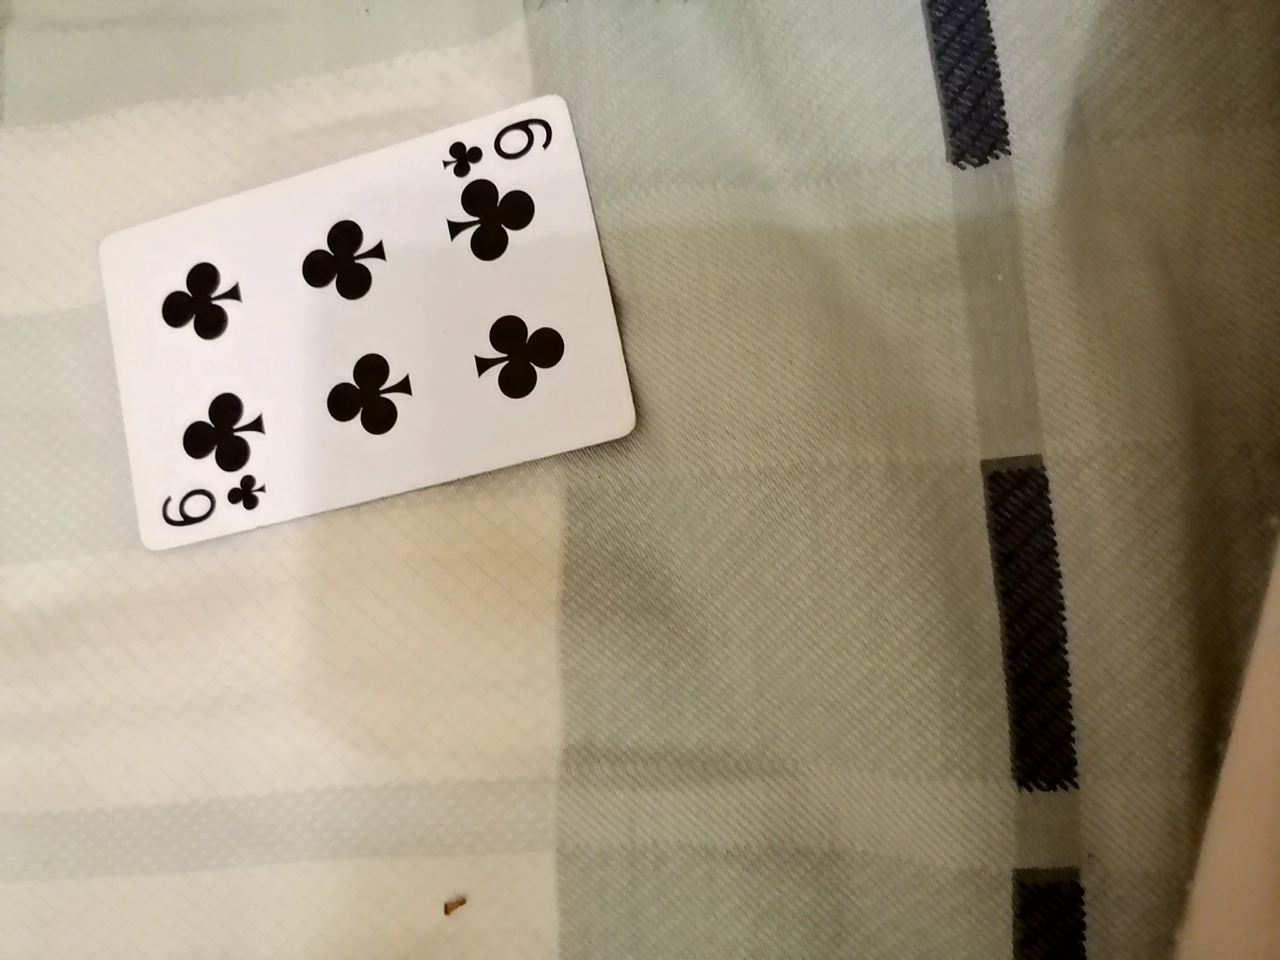mh 6: (99, 91, 618, 555)
